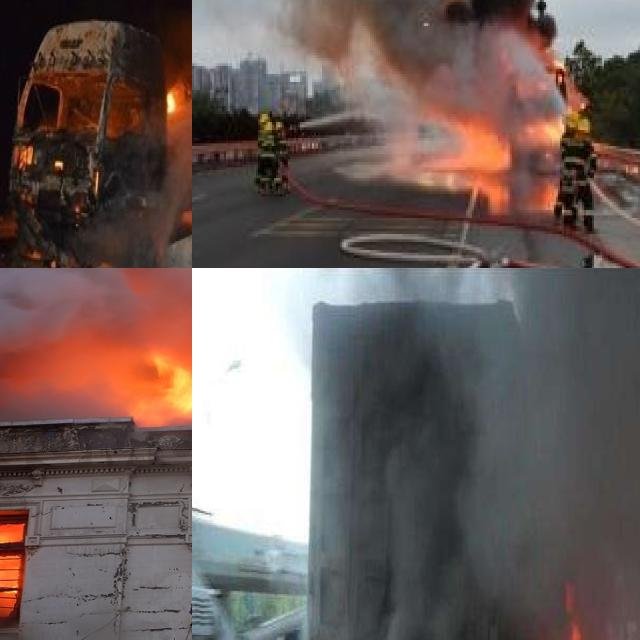fire: (432, 34, 562, 189), (107, 346, 192, 424), (162, 65, 192, 157), (0, 517, 25, 617)
smoke: (302, 269, 640, 640), (192, 0, 566, 103), (0, 268, 192, 406)
